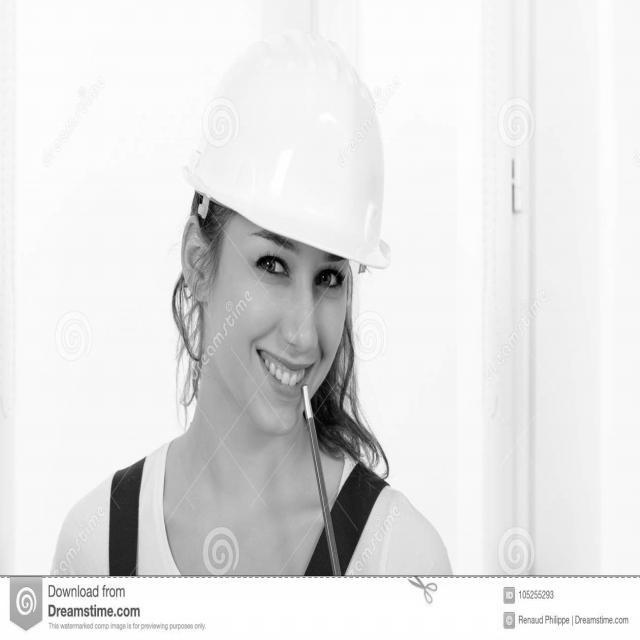safety_helmet: (184, 36, 392, 272)
